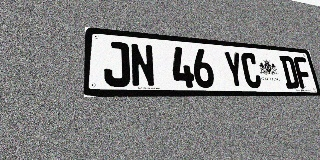4: (170, 46, 195, 88)
6: (191, 48, 215, 88)
C: (240, 52, 262, 88)
D: (279, 55, 300, 89)
F: (293, 57, 313, 89)
J: (103, 41, 131, 87)
N: (130, 43, 156, 87)
Y: (223, 51, 246, 88)
